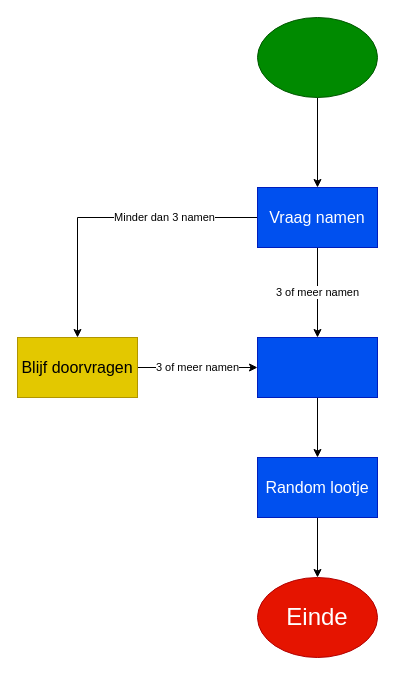
The diagram is 395 pixels wide and 675 high, and some of its shapes have lost their labels. Here are the shapes that lost their labels. From the top down, the centre of each, then its label:
At (317,57): "Begin".
At (317,367): "Lootjes trekken".
